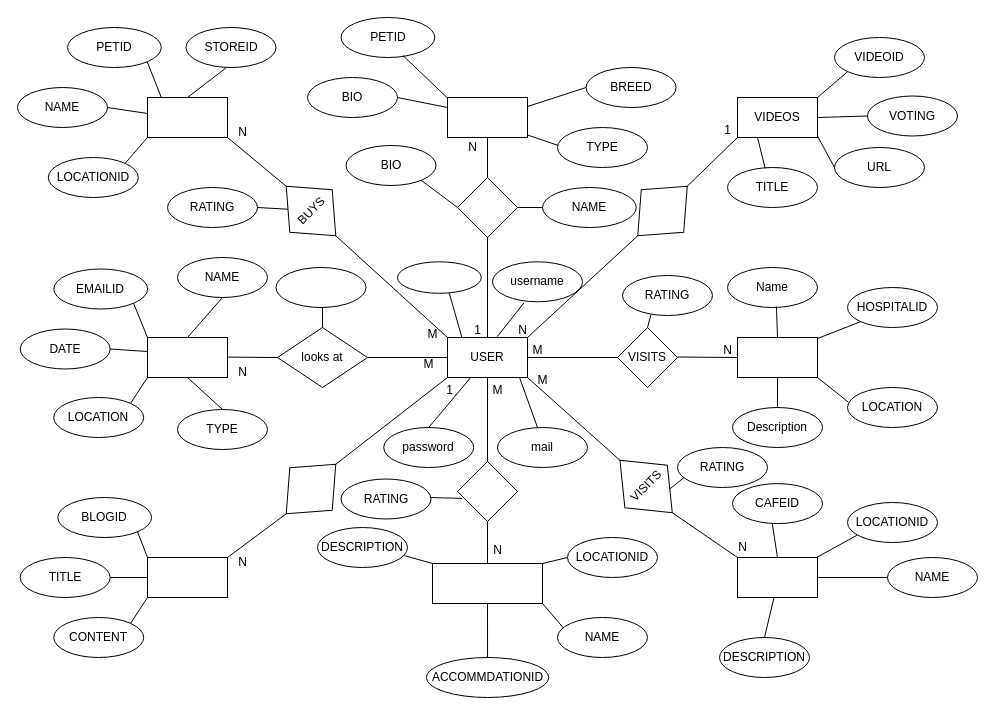
The diagram is 995 pixels wide and 715 high, and some of its shapes have lost their labels. Each missing label, with the centre of its shape:
"ACCOMMODATION" belongs at point 487,583.
"BLOGS" belongs at point 187,577.
"CAFES" belongs at point 777,577.
"EVENTS" belongs at point 187,357.
"HOSPITAL" belongs at point 777,357.
"OWNS" belongs at point 487,207.
"PET" belongs at point 487,117.
"PETSTORE" belongs at point 187,117.
"register" belongs at point 320,287.
"STAY" belongs at point 487,491.
"U_id" belongs at point 438,277.
"votes on" belongs at point 662,210.
"WRITES" belongs at point 310,488.
